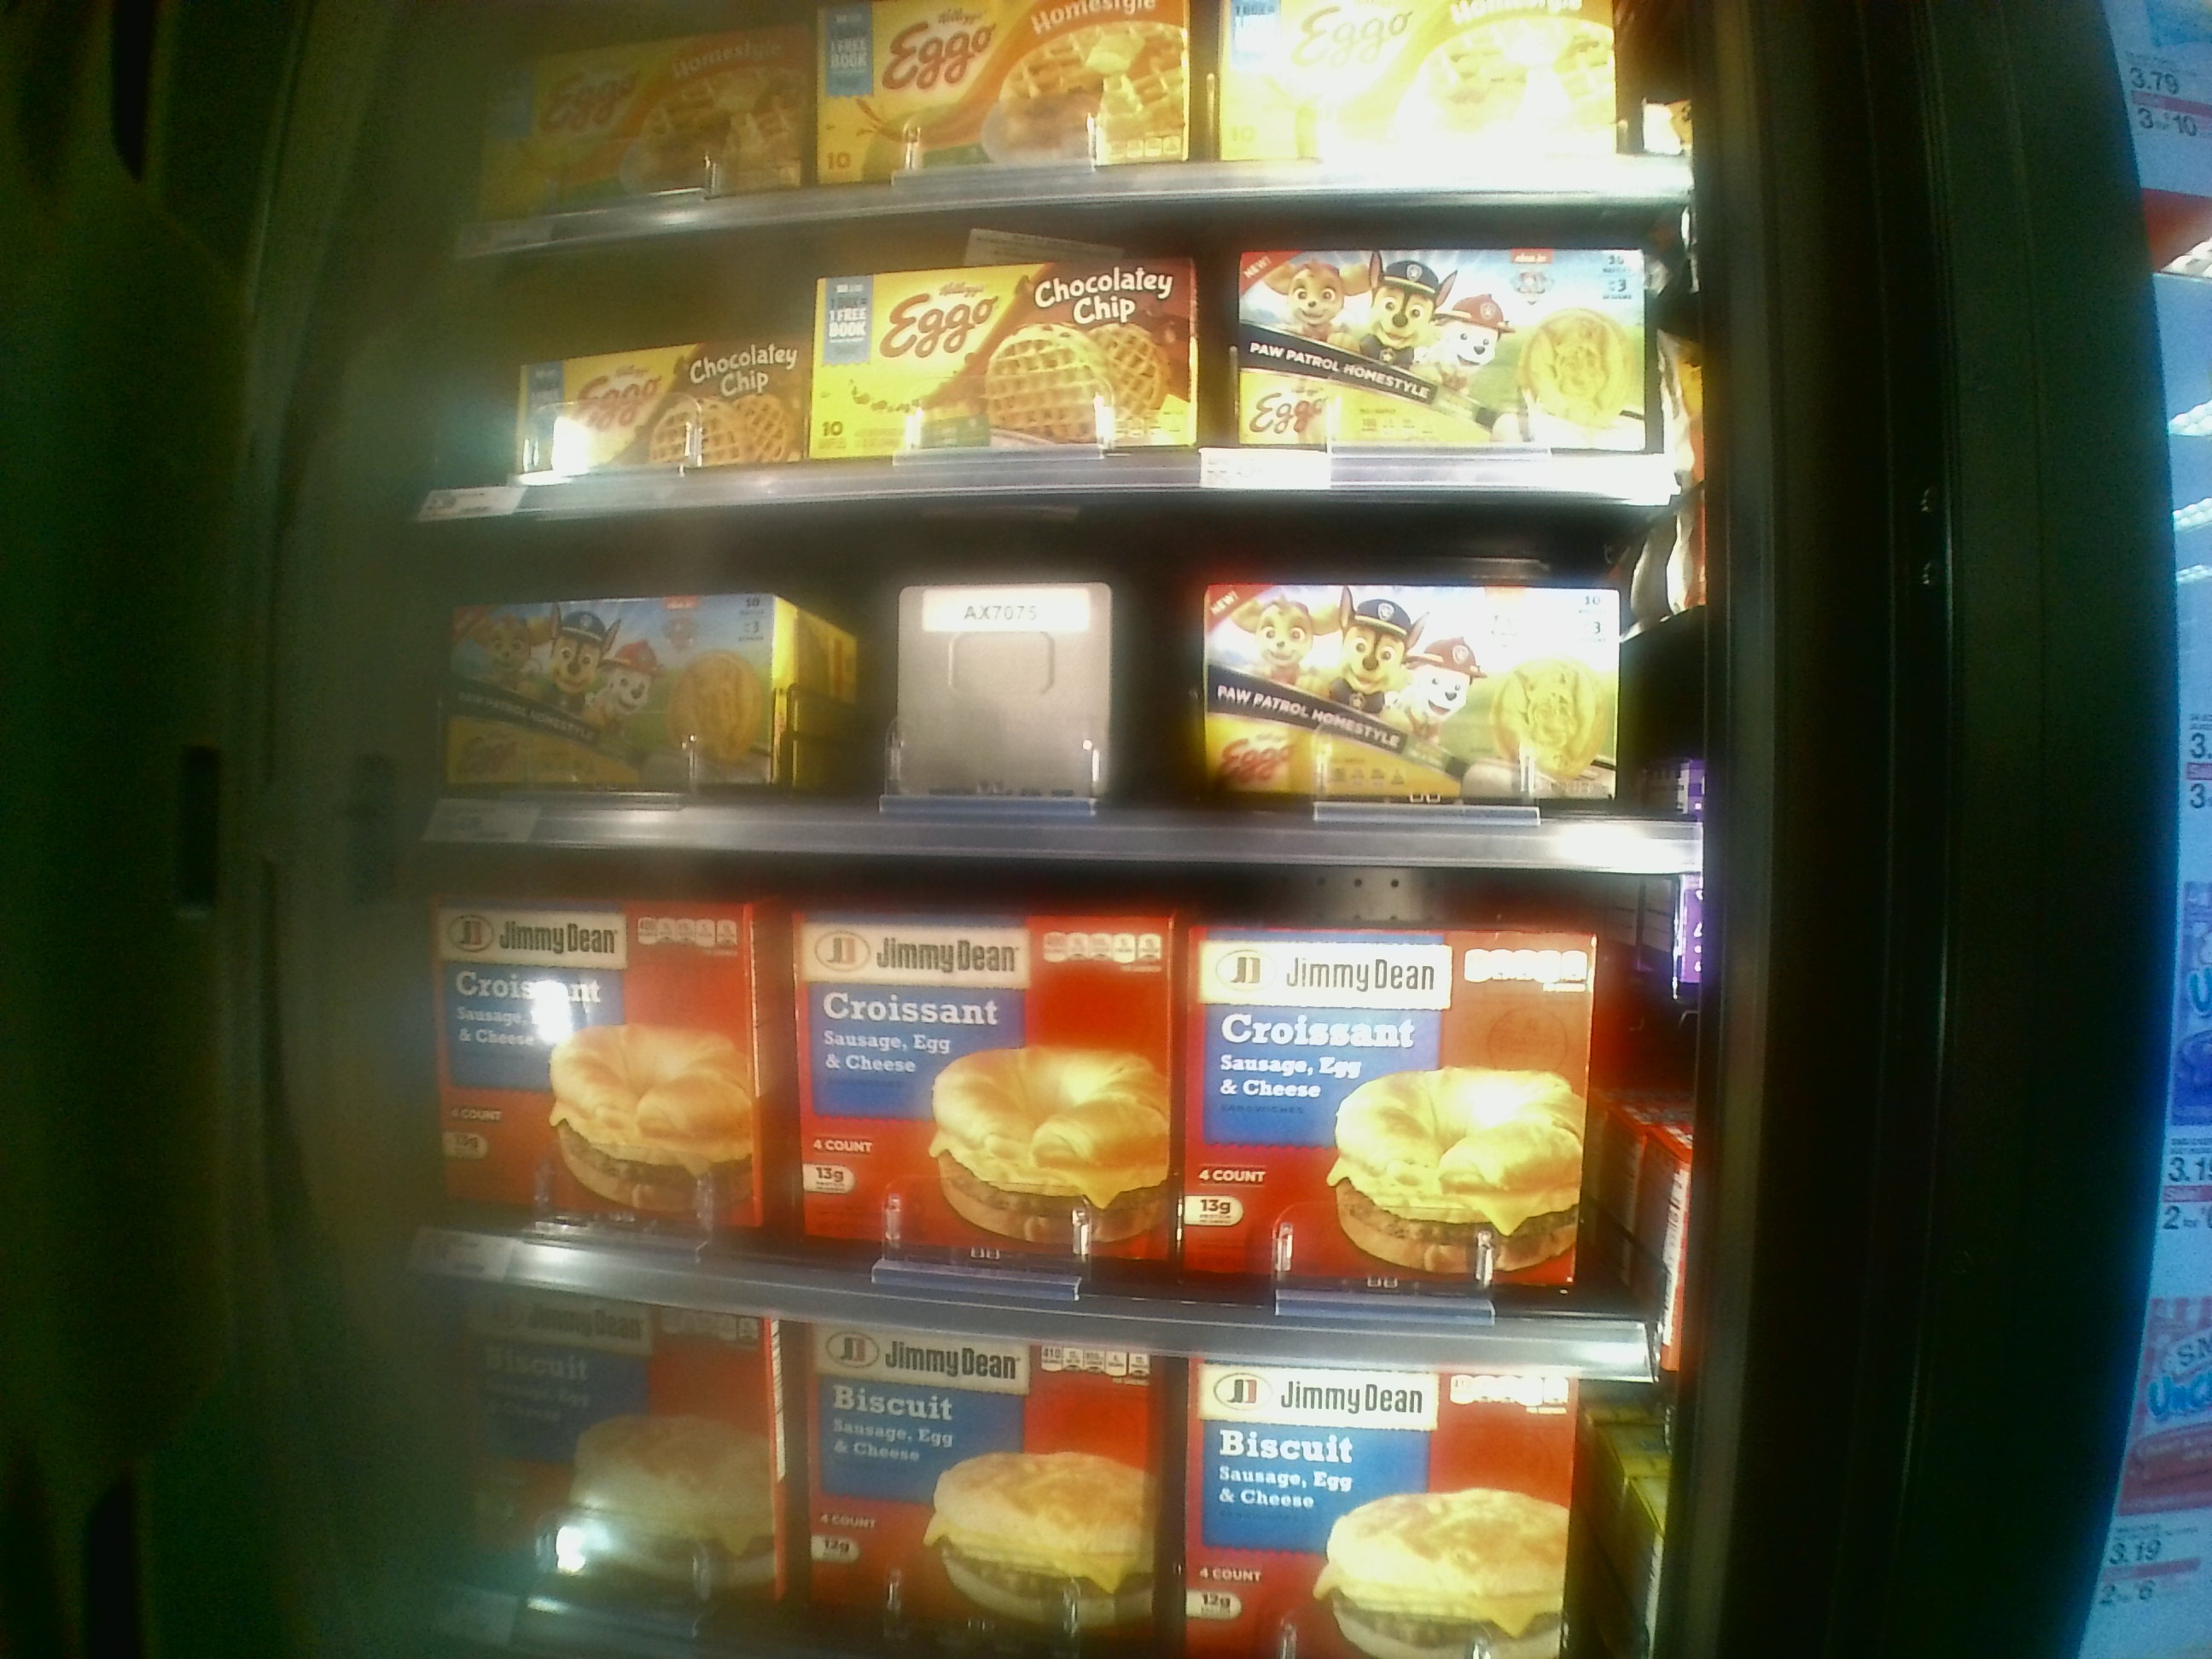frozen-food-shelf: (409, 838, 1691, 1382)
